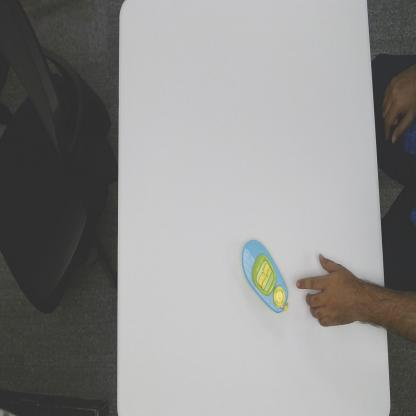Arm: (355, 278, 388, 329)
Boat: (242, 236, 290, 316)
Hand: (296, 250, 356, 328)
